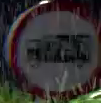Heavy Vehicles: (5, 0, 99, 102)
